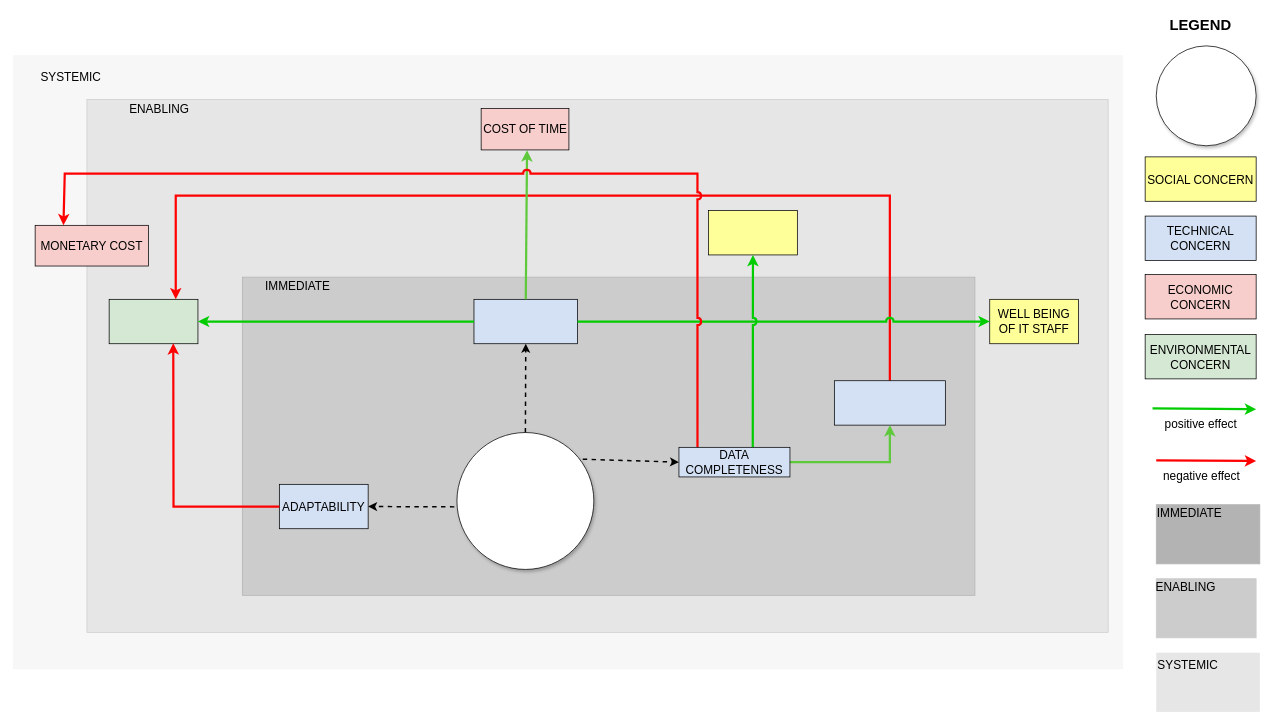
Some shapes in this 1276 by 724 pixel diagram are drawn without their labels. The shapes that lost their labels are listed below. From the top down, each one's centre as x and y in pixels, then its label:
[1207,96]: PROJECT FOCUS
[752,232]: WELL BEING OF SOCIETY
[153,321]: RESOURCE UTILIZATION
[525,321]: ADMISSION CONTROL
[889,402]: FUNCTIONAL COMPLETENESS
[525,502]: Single Model Approach
